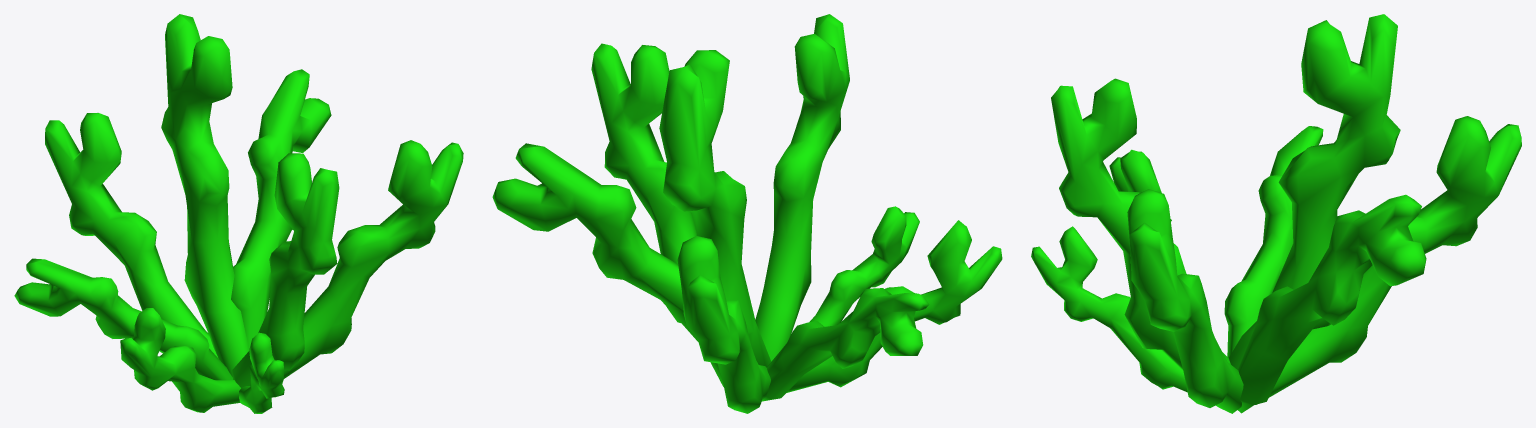
Rendered from green_coral.glb.
The picture shows the model from 3 angles, left to right: view 1: azimuth 30°, elevation 25°; view 2: azimuth 150°, elevation 25°; view 3: azimuth 270°, elevation 25°; orthographic projection. The views are drawn at different scales.
Parts seen in each view (by area): view 1: node_id60; view 2: node_id60; view 3: node_id60.
Boxes of the visible parts, left/top/right/bottom form: node_id60: left=14, top=14, right=463, bottom=413; node_id60: left=492, top=14, right=1002, bottom=413; node_id60: left=1031, top=14, right=1521, bottom=413.
Size of the model in its own units: 0.0387 by 0.0341 by 0.0383.
